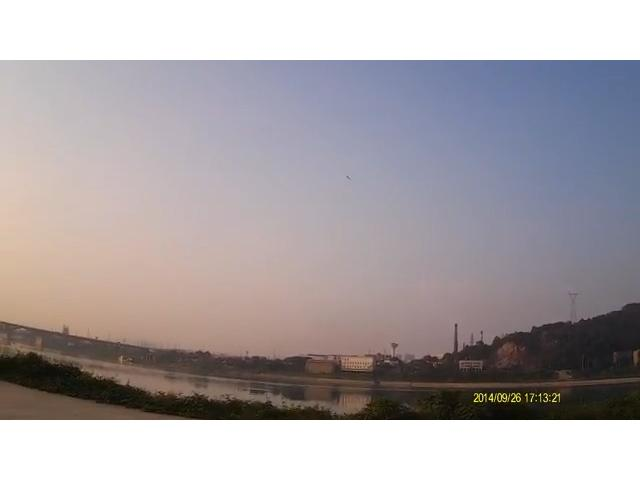Anti-Drone: (342, 172, 360, 188)
